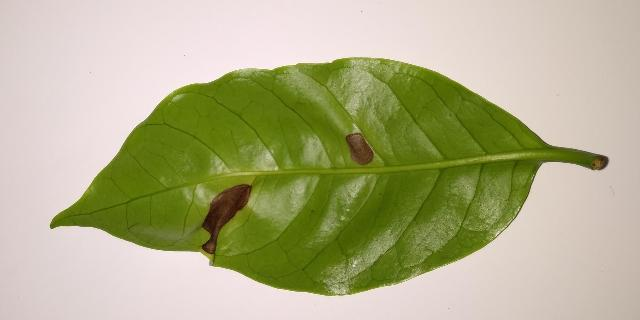rust: (202, 184, 251, 254), (346, 132, 374, 165)
